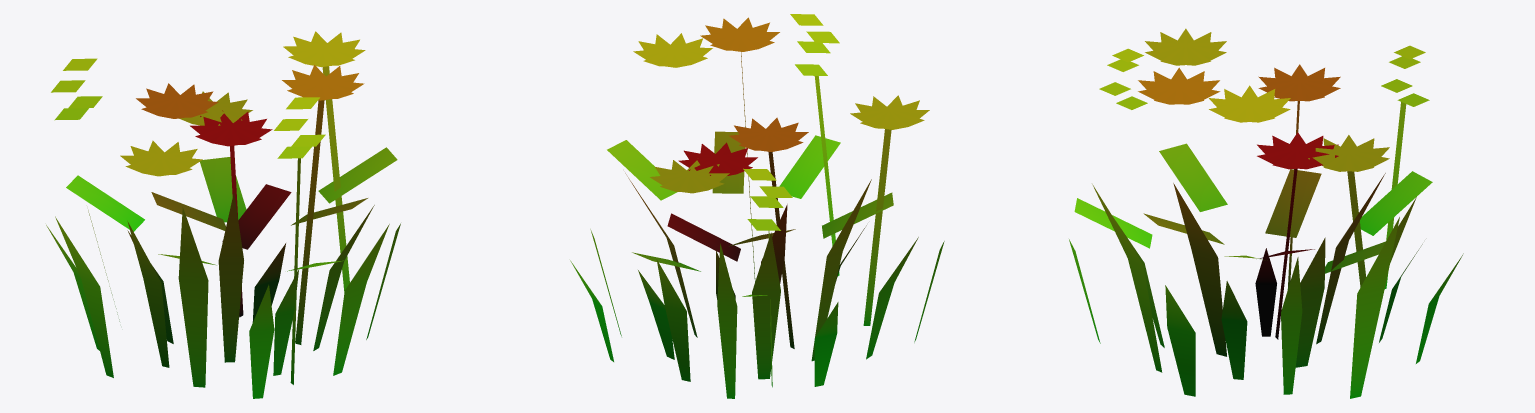
Rendered from wildflower.glb.
The picture shows the model from 3 angles, left to right: view 1: azimuth 30°, elevation 25°; view 2: azimuth 150°, elevation 25°; view 3: azimuth 270°, elevation 25°; orthographic projection. The views are drawn at different scales.
Parts seen in each view (by area): view 1: foliage_meadow_blades, flower_ivory_daisies, flower_lavender_accents; view 2: foliage_meadow_blades, flower_ivory_daisies, flower_lavender_accents; view 3: foliage_meadow_blades, flower_ivory_daisies, flower_lavender_accents.
Boxes of the visible parts, x1=… form: foliage_meadow_blades: x1=46, y1=66, x2=400, y2=398; flower_ivory_daisies: x1=120, y1=31, x2=365, y2=176; flower_lavender_accents: x1=51, y1=58, x2=325, y2=158; foliage_meadow_blades: x1=570, y1=52, x2=944, y2=398; flower_ivory_daisies: x1=633, y1=17, x2=929, y2=193; flower_lavender_accents: x1=743, y1=14, x2=839, y2=230; foliage_meadow_blades: x1=1069, y1=101, x2=1463, y2=398; flower_ivory_daisies: x1=1138, y1=28, x2=1389, y2=171; flower_lavender_accents: x1=1099, y1=45, x2=1429, y2=109.
Bounding box in the file's own units: 0.8378 × 0.5115 × 0.8272.
